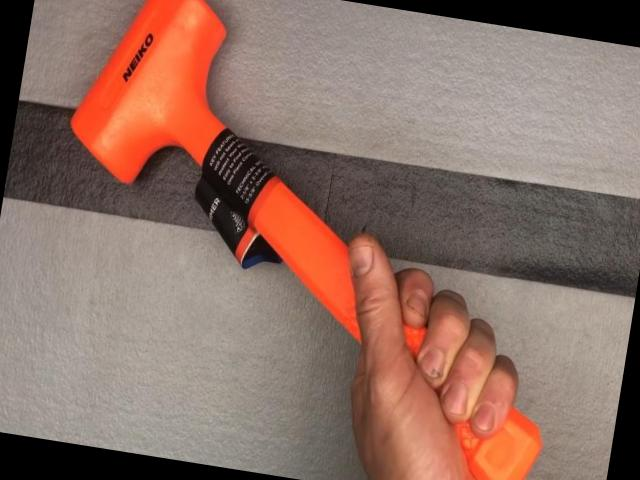hammer: (18, 0, 606, 480)
